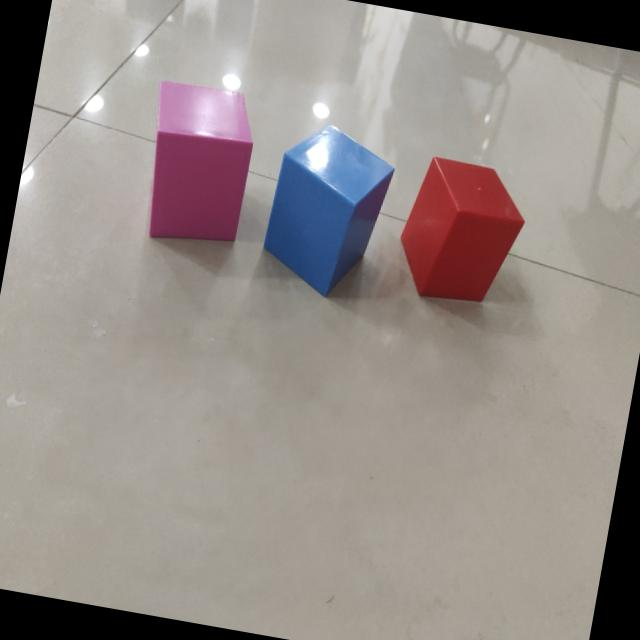blue: (262, 127, 394, 297)
pink: (148, 81, 253, 243)
red: (399, 156, 524, 304)
